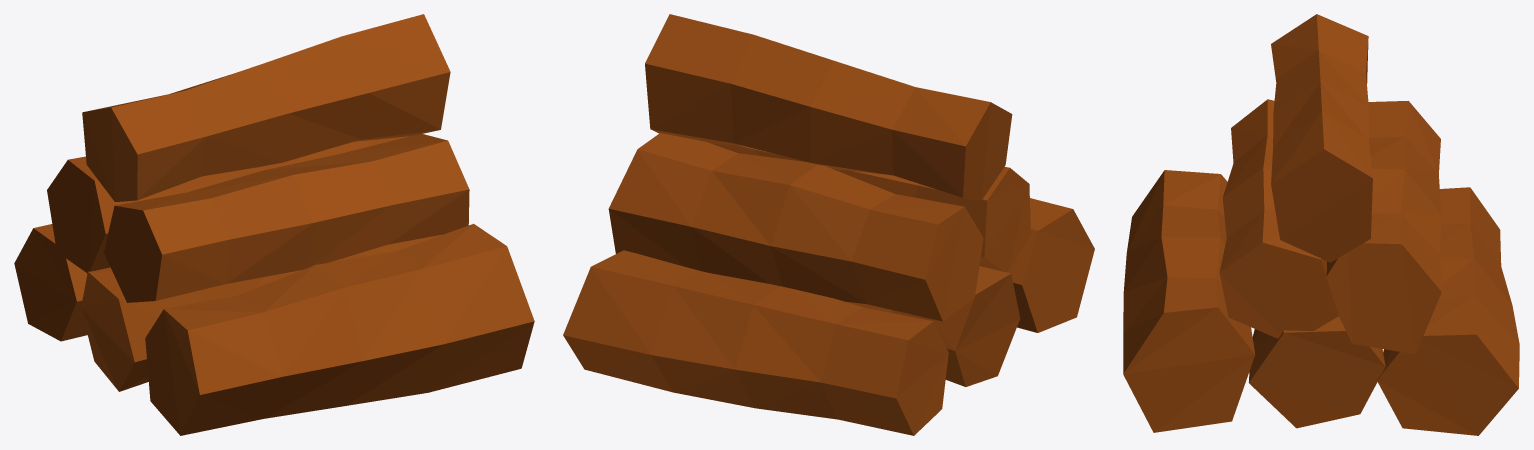
The model's file is WoodStack1.fbx.
3 views of the same model, side by side, from view 1: azimuth 30°, elevation 25°; view 2: azimuth 150°, elevation 25°; view 3: azimuth 270°, elevation 25° (orthographic). The views are drawn at different scales.
Visible parts, largest first — view 1: WoodStack1; view 2: WoodStack1; view 3: WoodStack1.
Boxes of the visible parts, <box> form: WoodStack1: <box>14,14,534,435</box>; WoodStack1: <box>563,14,1094,435</box>; WoodStack1: <box>1123,14,1519,435</box>.
Size of the model in its own units: 121 by 103 by 130.
